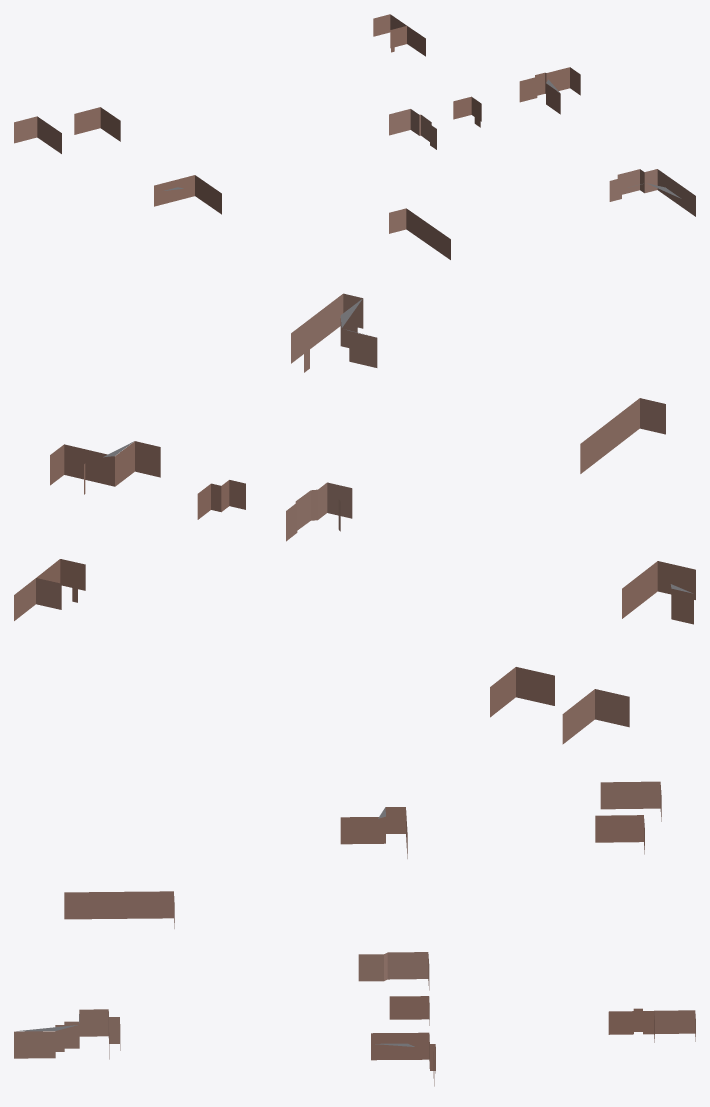
Rendered from c_1634_17837_buildings_residential.glb.
The picture shows the model from 3 angles, top to bottom: view 1: azimuth 30°, elevation 25°; view 2: azimuth 150°, elevation 25°; view 3: azimuth 270°, elevation 25°; orthographic projection. The views are drawn at different scales.
Parts seen in each view (by area): view 1: geometry_0; view 2: geometry_0; view 3: geometry_0.
Boxes of the visible parts, box(x1,y1,x2,y2) form: geometry_0: box(14, 14, 695, 259); geometry_0: box(14, 293, 695, 744); geometry_0: box(14, 781, 695, 1086).
Bounding box in the file's own units: 255 × 14.71 × 252.
